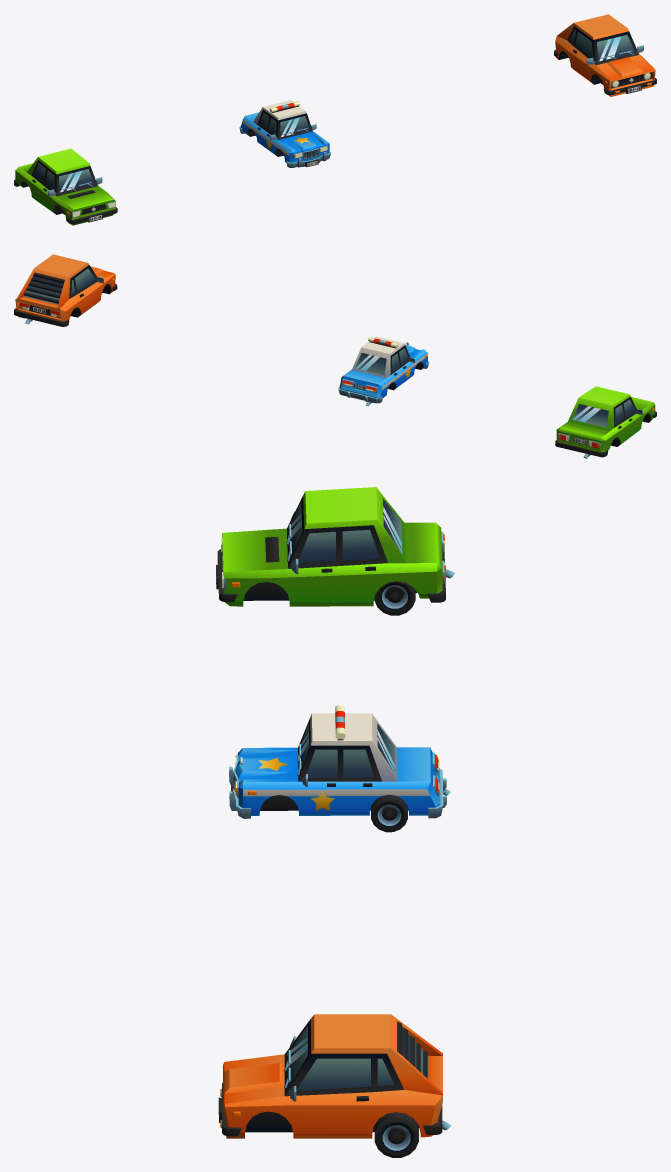
File: lowPolyCar3.fbx
The picture shows the model from 3 angles, top to bottom: view 1: azimuth 30°, elevation 25°; view 2: azimuth 150°, elevation 25°; view 3: azimuth 270°, elevation 25°; orthographic projection. The views are drawn at different scales.
Visible parts, largest first — view 1: carBody.001, carBody, carBody.002; view 2: carBody.001, carBody, carBody.002; view 3: carBody.001, carBody, carBody.002, wheel, wheel.001, wheel.002.
Boxes of the visible parts, x1,y1,x2,y2 form: carBody.001: [554, 14, 656, 96]; carBody: [14, 148, 117, 225]; carBody.002: [239, 100, 330, 167]; carBody.001: [14, 254, 117, 326]; carBody: [555, 386, 656, 458]; carBody.002: [338, 336, 429, 406]; carBody.001: [218, 1014, 450, 1138]; carBody: [216, 487, 454, 606]; carBody.002: [229, 705, 450, 818]; wheel: [374, 1112, 418, 1157]; wheel.001: [371, 794, 407, 832]; wheel.002: [374, 581, 415, 615].
Size of the model in its own units: 22.23 by 1.78 by 3.87.
